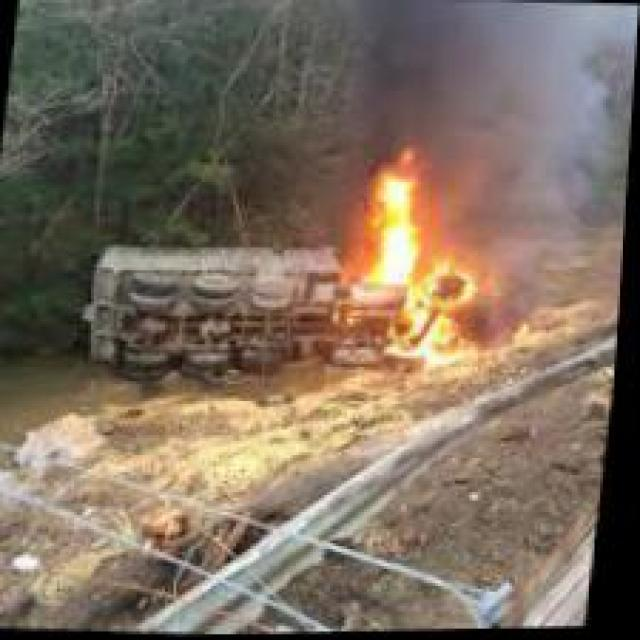Fire: (307, 136, 515, 378)
Smoke: (440, 0, 638, 225), (327, 0, 458, 142)
